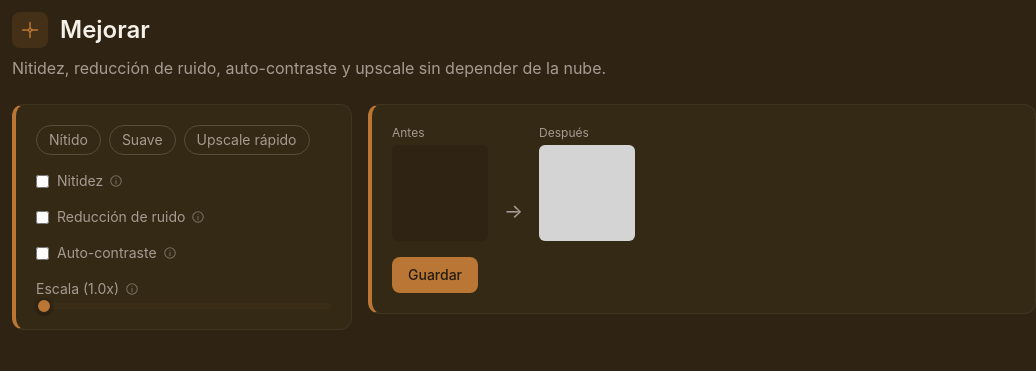
EnhanceScreen › saves the enhanced image to the chosen path
What coordinates should you click on to do the following:
click the button "Guardar"
I would click on:
 (435, 275)
Its box is top-left (392, 257), bottom-right (478, 293).
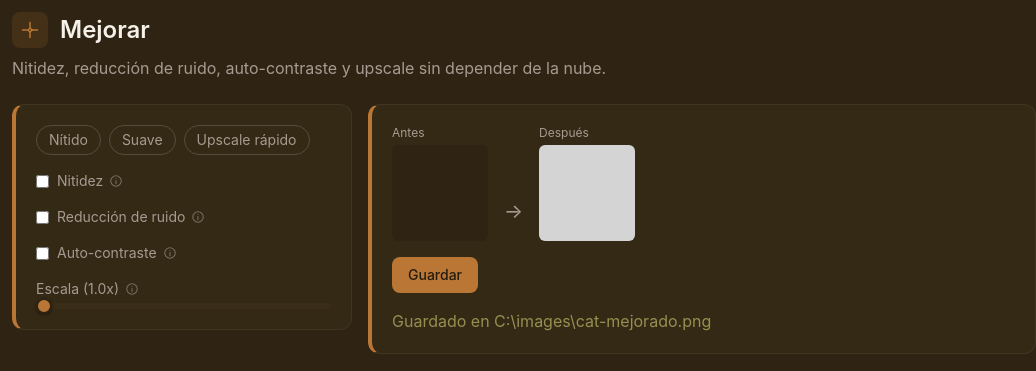
expect the text "Guardado en C:\\images\\cat-mejorado.png" is shown: met, box top-left (392, 311), bottom-right (711, 331)
